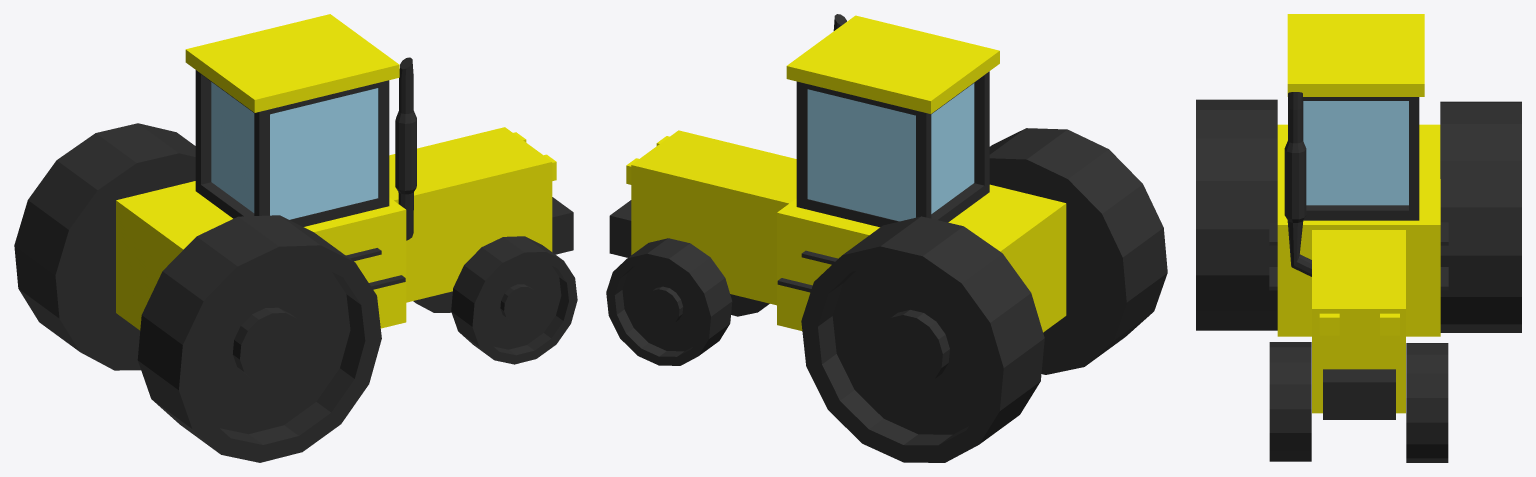
Rendered from Tractor amarillo.fbx.
The picture shows the model from 3 angles, left to right: view 1: azimuth 30°, elevation 25°; view 2: azimuth 150°, elevation 25°; view 3: azimuth 270°, elevation 25°; orthographic projection.
Parts seen in each view (by area): view 1: Cylinder.001, Cylinder.009, Cube.001, Cube.006, Cube.002, Cube.007, Cylinder.005, Cube.003, Cylinder.003, Cylinder, Cylinder.006, Cube.011; view 2: Cylinder.009, Cylinder.001, Cube.001, Cube.006, Cube.002, Cube.007, Cylinder.002, Cube.003, Cylinder.010, Cylinder.004, Cube.011; view 3: Cylinder.001, Cylinder.009, Cube.001, Cube.007, Cube.002, Cube.006, Cylinder.005, Cylinder.002, Cube.011, Cube.003, Cylinder, Cube.010 (+2 smaller).
Boxes of the visible parts, bbox=[...] form: Cylinder.001: bbox=[137, 215, 381, 462]; Cylinder.009: bbox=[14, 123, 195, 370]; Cube.001: bbox=[389, 127, 552, 302]; Cube.006: bbox=[211, 82, 378, 219]; Cube.002: bbox=[116, 181, 406, 330]; Cube.007: bbox=[185, 14, 399, 112]; Cylinder.005: bbox=[451, 236, 577, 364]; Cube.003: bbox=[195, 70, 389, 226]; Cylinder.003: bbox=[232, 307, 305, 382]; Cylinder: bbox=[395, 57, 416, 240]; Cylinder.006: bbox=[500, 284, 537, 322]; Cube.011: bbox=[552, 197, 573, 254]; Cylinder.009: bbox=[801, 216, 1044, 462]; Cylinder.001: bbox=[989, 128, 1167, 374]; Cube.001: bbox=[631, 130, 796, 305]; Cube.006: bbox=[807, 83, 974, 221]; Cube.002: bbox=[777, 184, 1066, 332]; Cube.007: bbox=[786, 15, 999, 113]; Cylinder.002: bbox=[606, 238, 732, 365]; Cube.003: bbox=[796, 71, 989, 227]; Cylinder.010: bbox=[877, 309, 949, 384]; Cylinder.004: bbox=[645, 286, 683, 325]; Cube.011: bbox=[609, 200, 631, 257]; Cylinder.001: bbox=[1196, 99, 1277, 330]; Cylinder.009: bbox=[1440, 101, 1521, 332]; Cube.001: bbox=[1312, 230, 1405, 413]; Cube.007: bbox=[1287, 14, 1424, 96]; Cube.002: bbox=[1277, 124, 1440, 336]; Cube.006: bbox=[1303, 101, 1408, 205]; Cylinder.005: bbox=[1269, 342, 1311, 461]; Cylinder.002: bbox=[1406, 343, 1448, 462]; Cube.011: bbox=[1323, 369, 1395, 419]; Cube.003: bbox=[1303, 97, 1419, 220]; Cylinder: bbox=[1284, 92, 1311, 276]; Cube.010: bbox=[1269, 222, 1448, 290].
Size of the model in its own units: 386 by 258 by 240.
